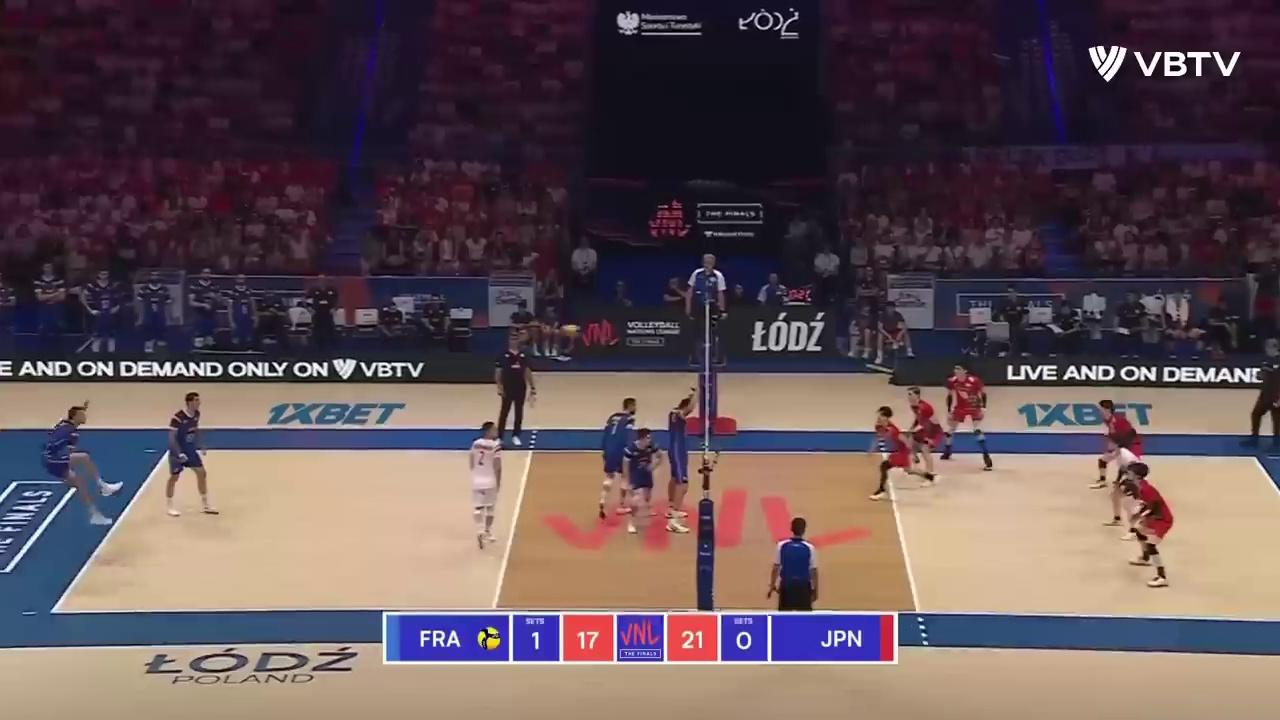ball: (561, 325, 579, 338)
